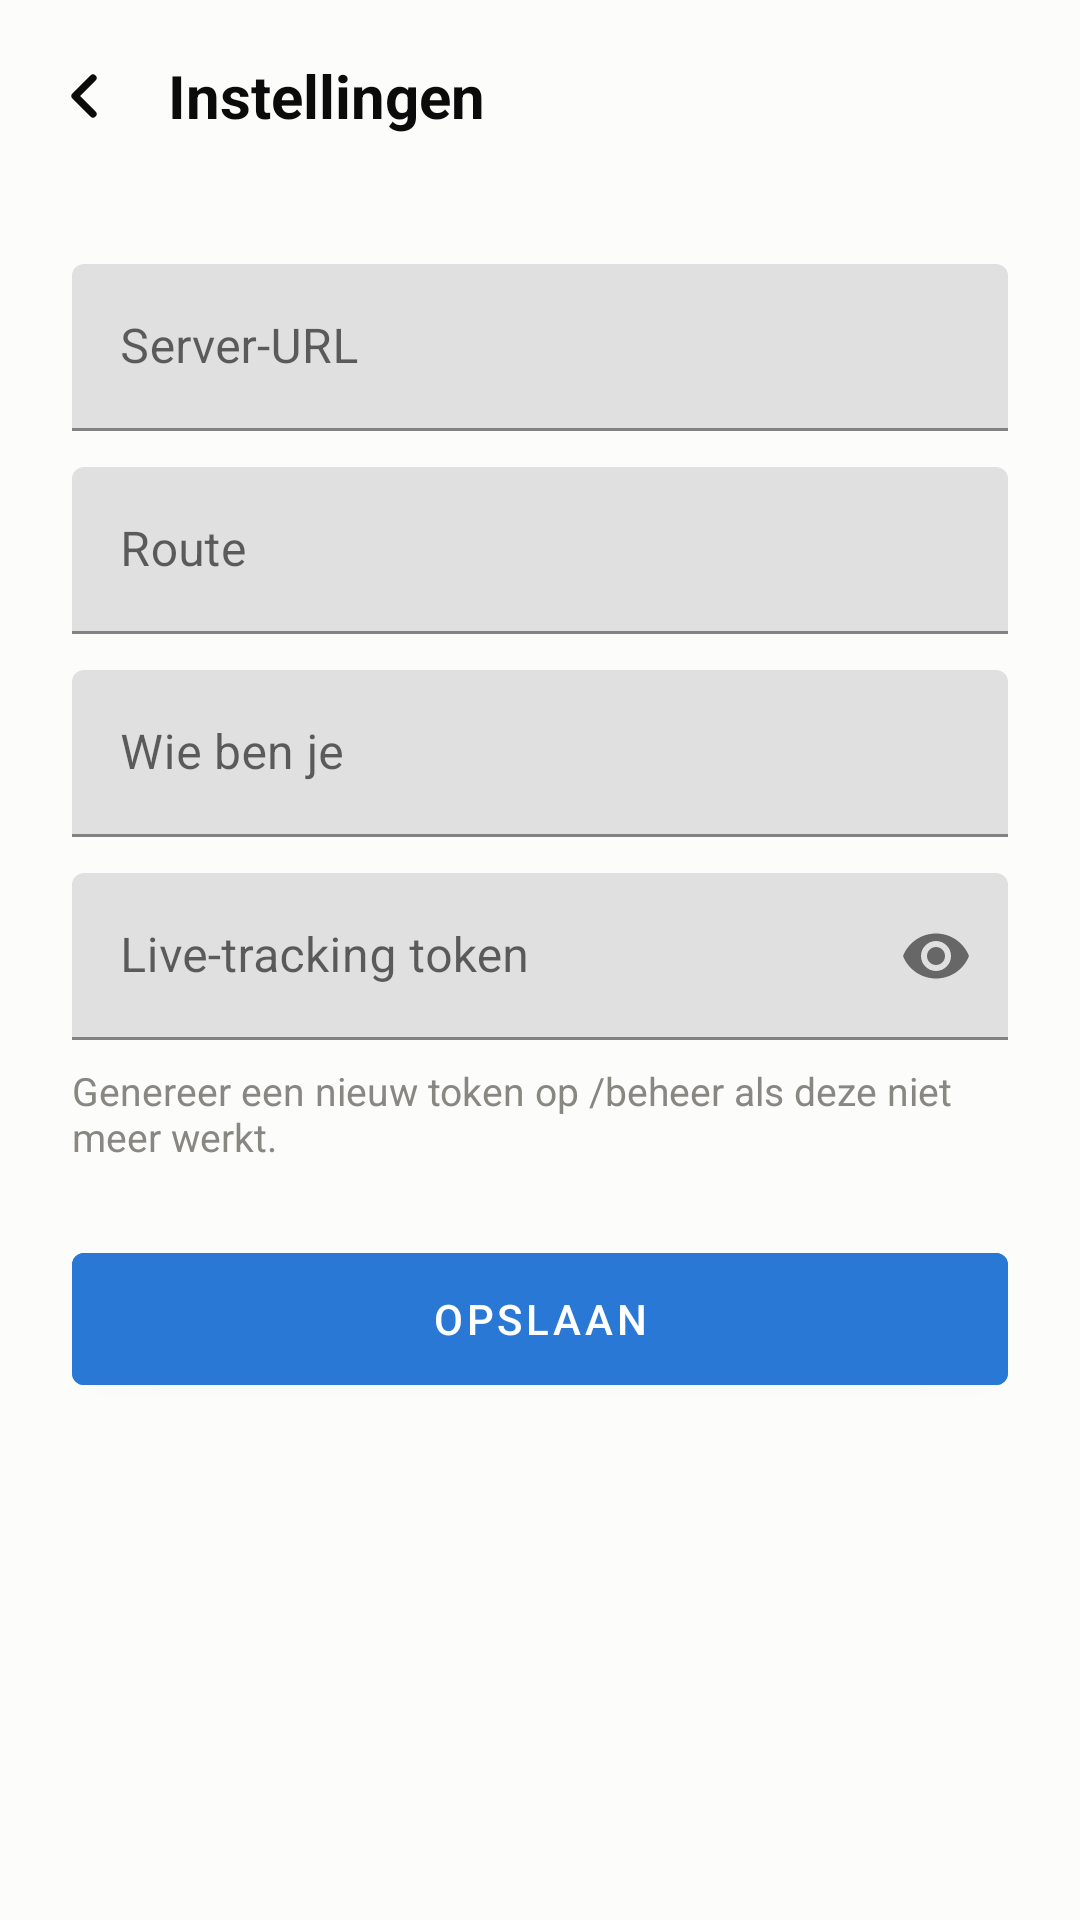

Screen size 1080 × 1920. Icon name, then its box in pixels as (x1=x1, y1=y1, x2=x2, y2=y2):
Terug: (x1=71, y1=74, x2=97, y2=118)
